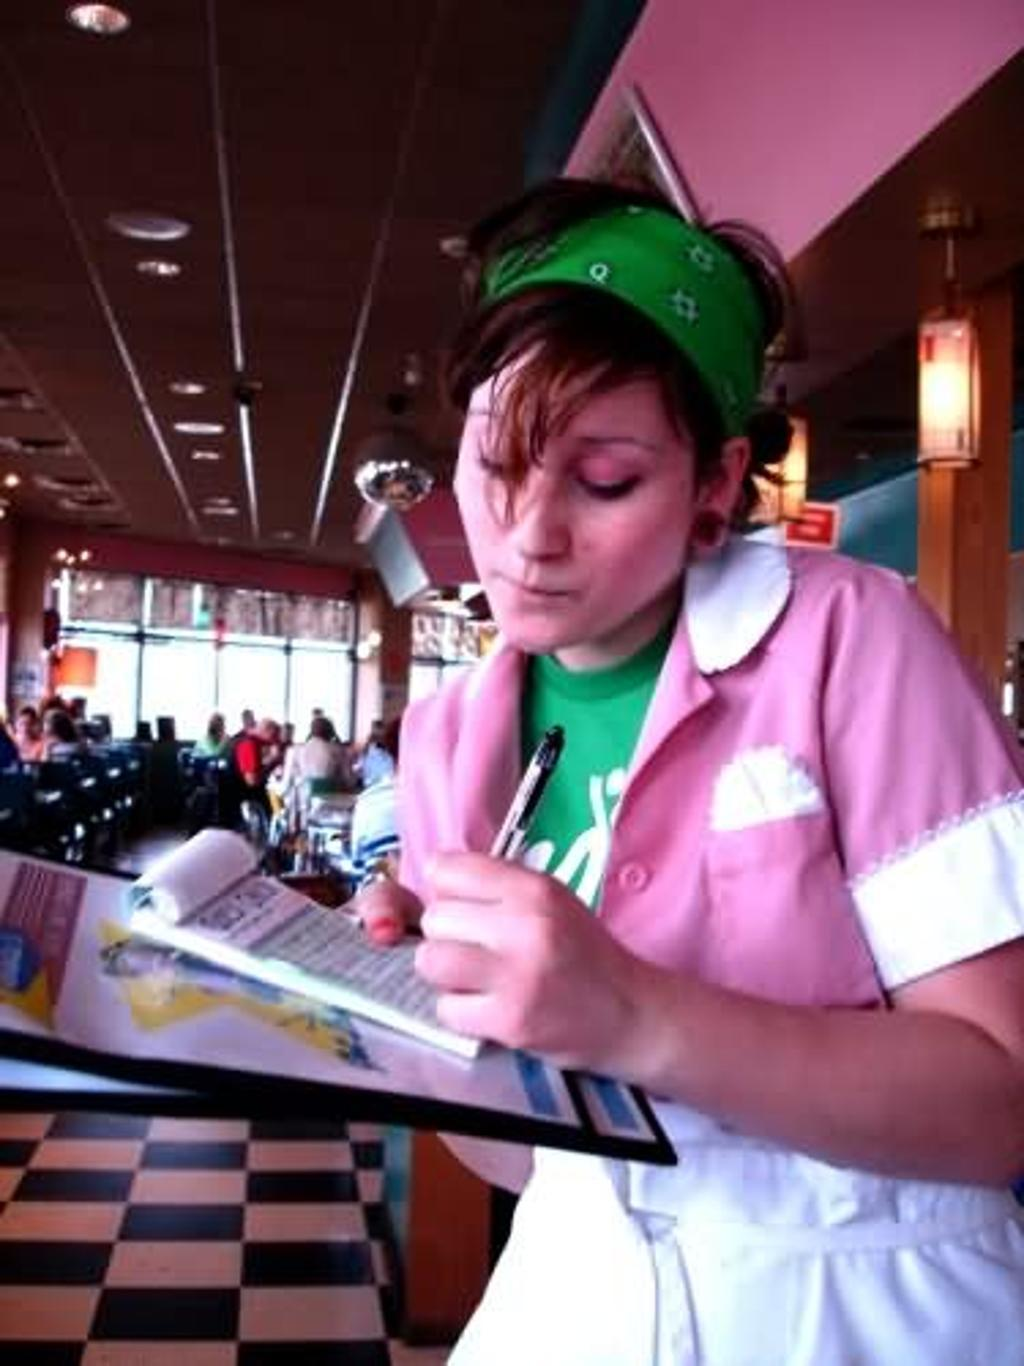face: (454, 334, 697, 654)
